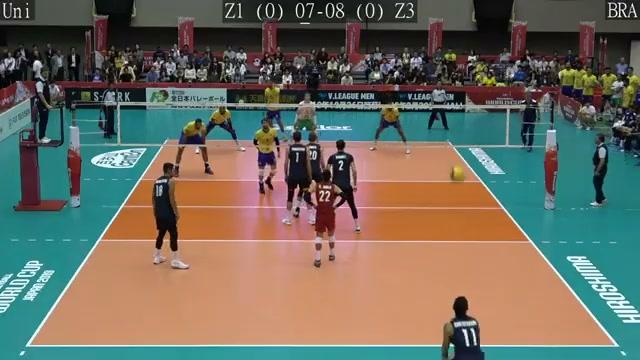ball: (446, 164, 467, 183)
